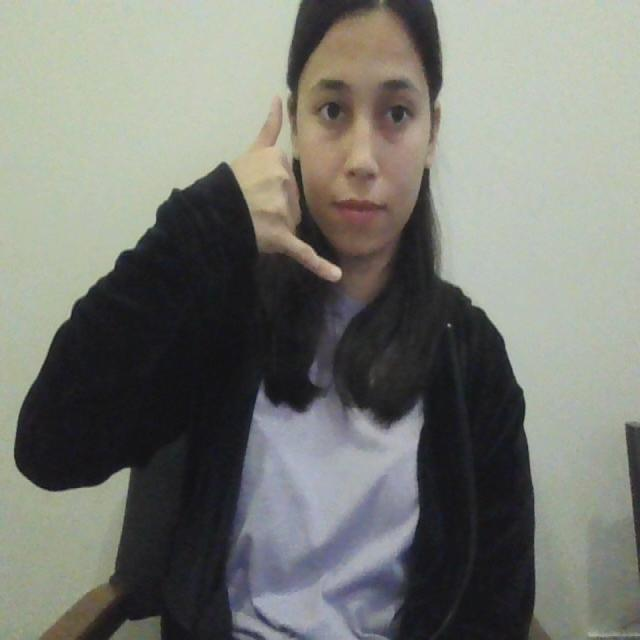Telefon: (211, 90, 353, 284)
